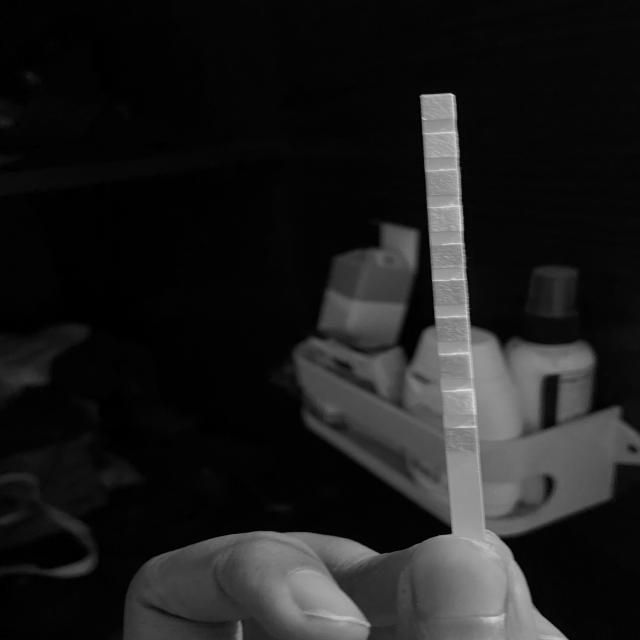Bilirubin: (444, 391, 474, 414)
Blood: (434, 282, 465, 304)
Glucose: (446, 428, 476, 451)
Ketone: (439, 354, 471, 377)
Leukocytes: (422, 96, 453, 120)
Nitrite: (424, 134, 456, 157)
Protein: (429, 208, 459, 231)
SpGravity: (436, 316, 468, 341)
Urobilinogen: (426, 171, 458, 194)
background: (0, 0, 640, 640)
pH: (432, 245, 462, 268)
strip: (421, 94, 485, 534)
